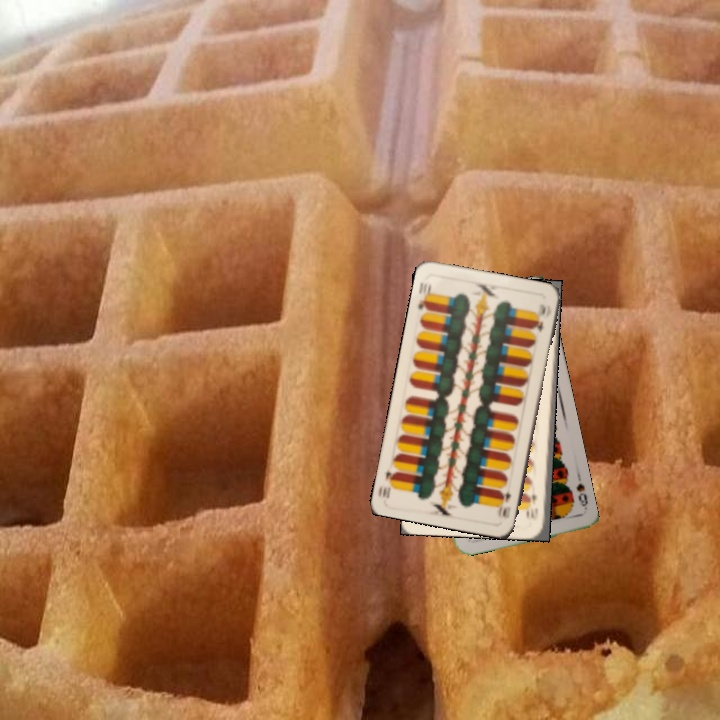E10: (494, 487, 514, 522), (414, 278, 434, 313), (526, 490, 541, 523)
S8: (572, 479, 590, 512)
